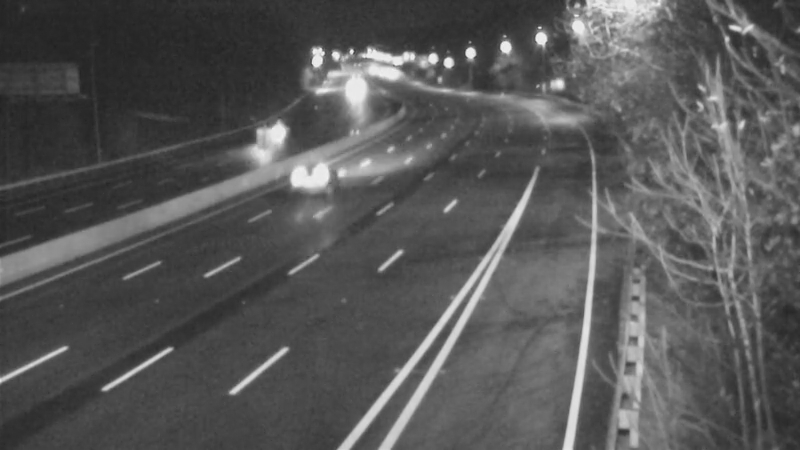vehicle: (268, 142, 348, 222), (242, 115, 292, 165), (327, 65, 377, 115)
